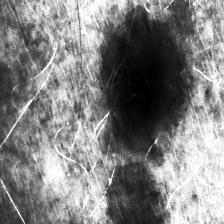Benign Marking or Mole: (105, 21, 189, 145), (102, 163, 172, 224)
